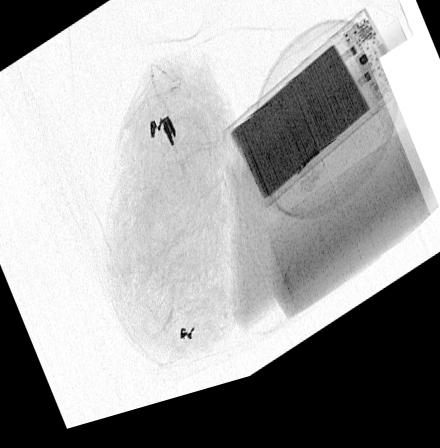Powerbank: (222, 26, 407, 223)
